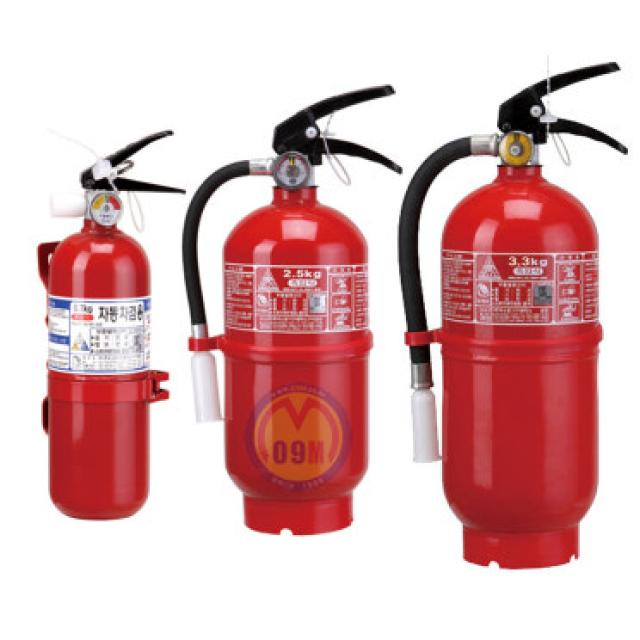pressure gauge: (274, 152, 311, 190), (499, 131, 533, 166), (90, 193, 122, 227)
